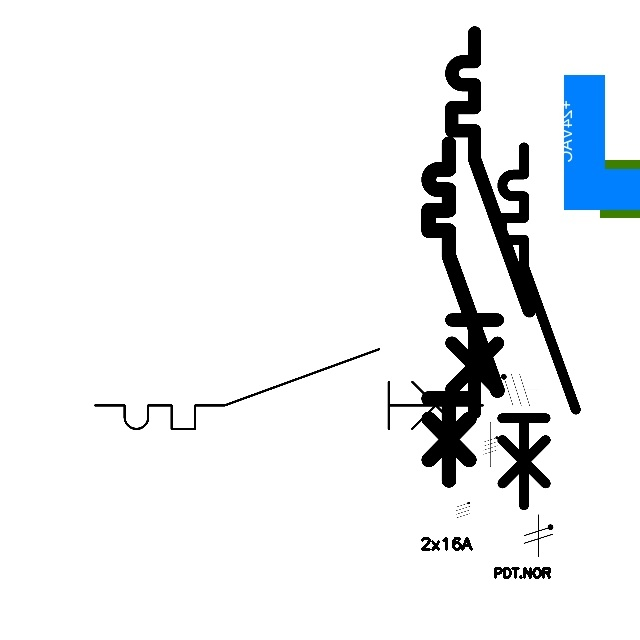interruptor_termomagnetico: (85, 339, 492, 439), (442, 23, 539, 422), (493, 138, 585, 515), (420, 135, 506, 489)
